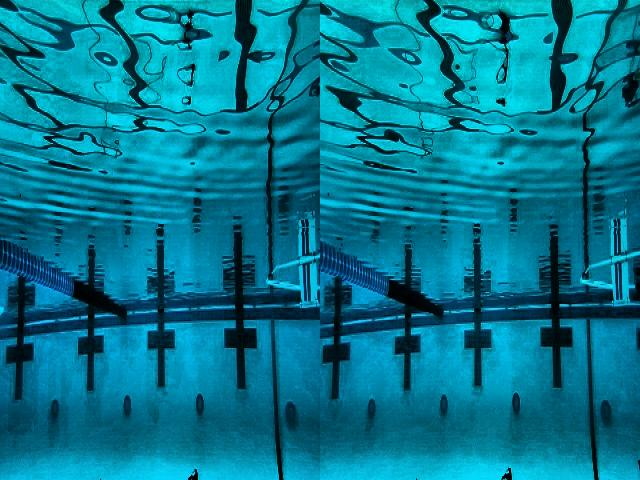octagon_top: (579, 245, 640, 315), (267, 248, 321, 316)
